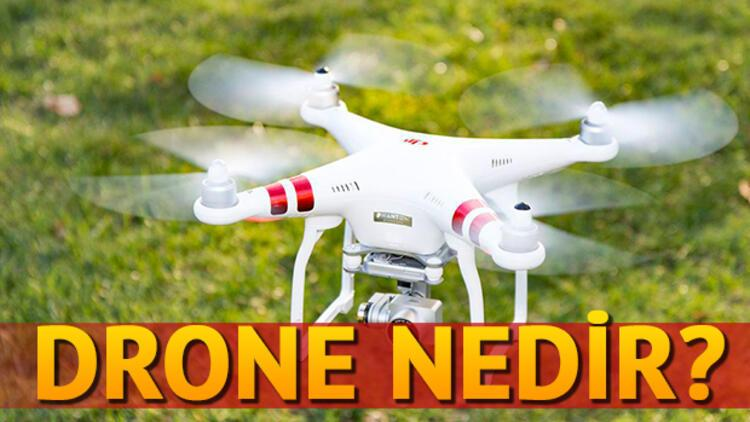drone: (133, 45, 694, 311)
